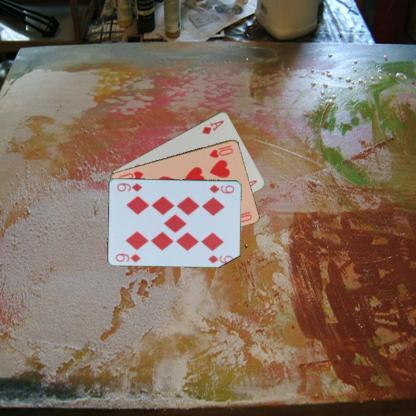10h: (206, 142, 234, 159)
9d: (207, 182, 236, 195), (113, 251, 142, 263)
Ad: (199, 117, 224, 135)
